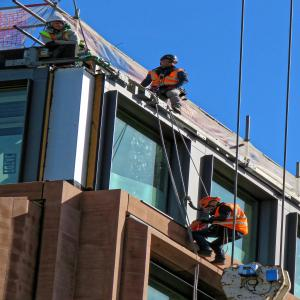red: (200, 198, 221, 212)
white: (46, 17, 67, 30)
